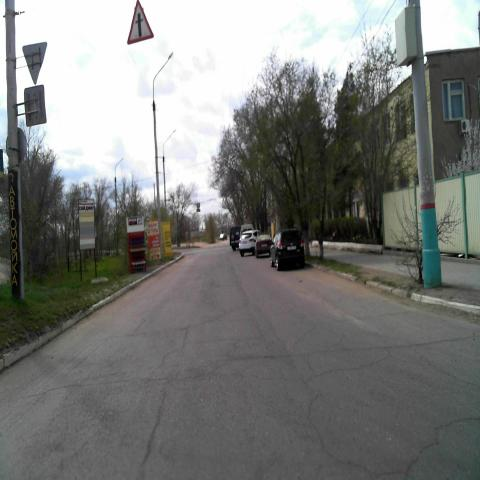2_3: (126, 0, 154, 44)
